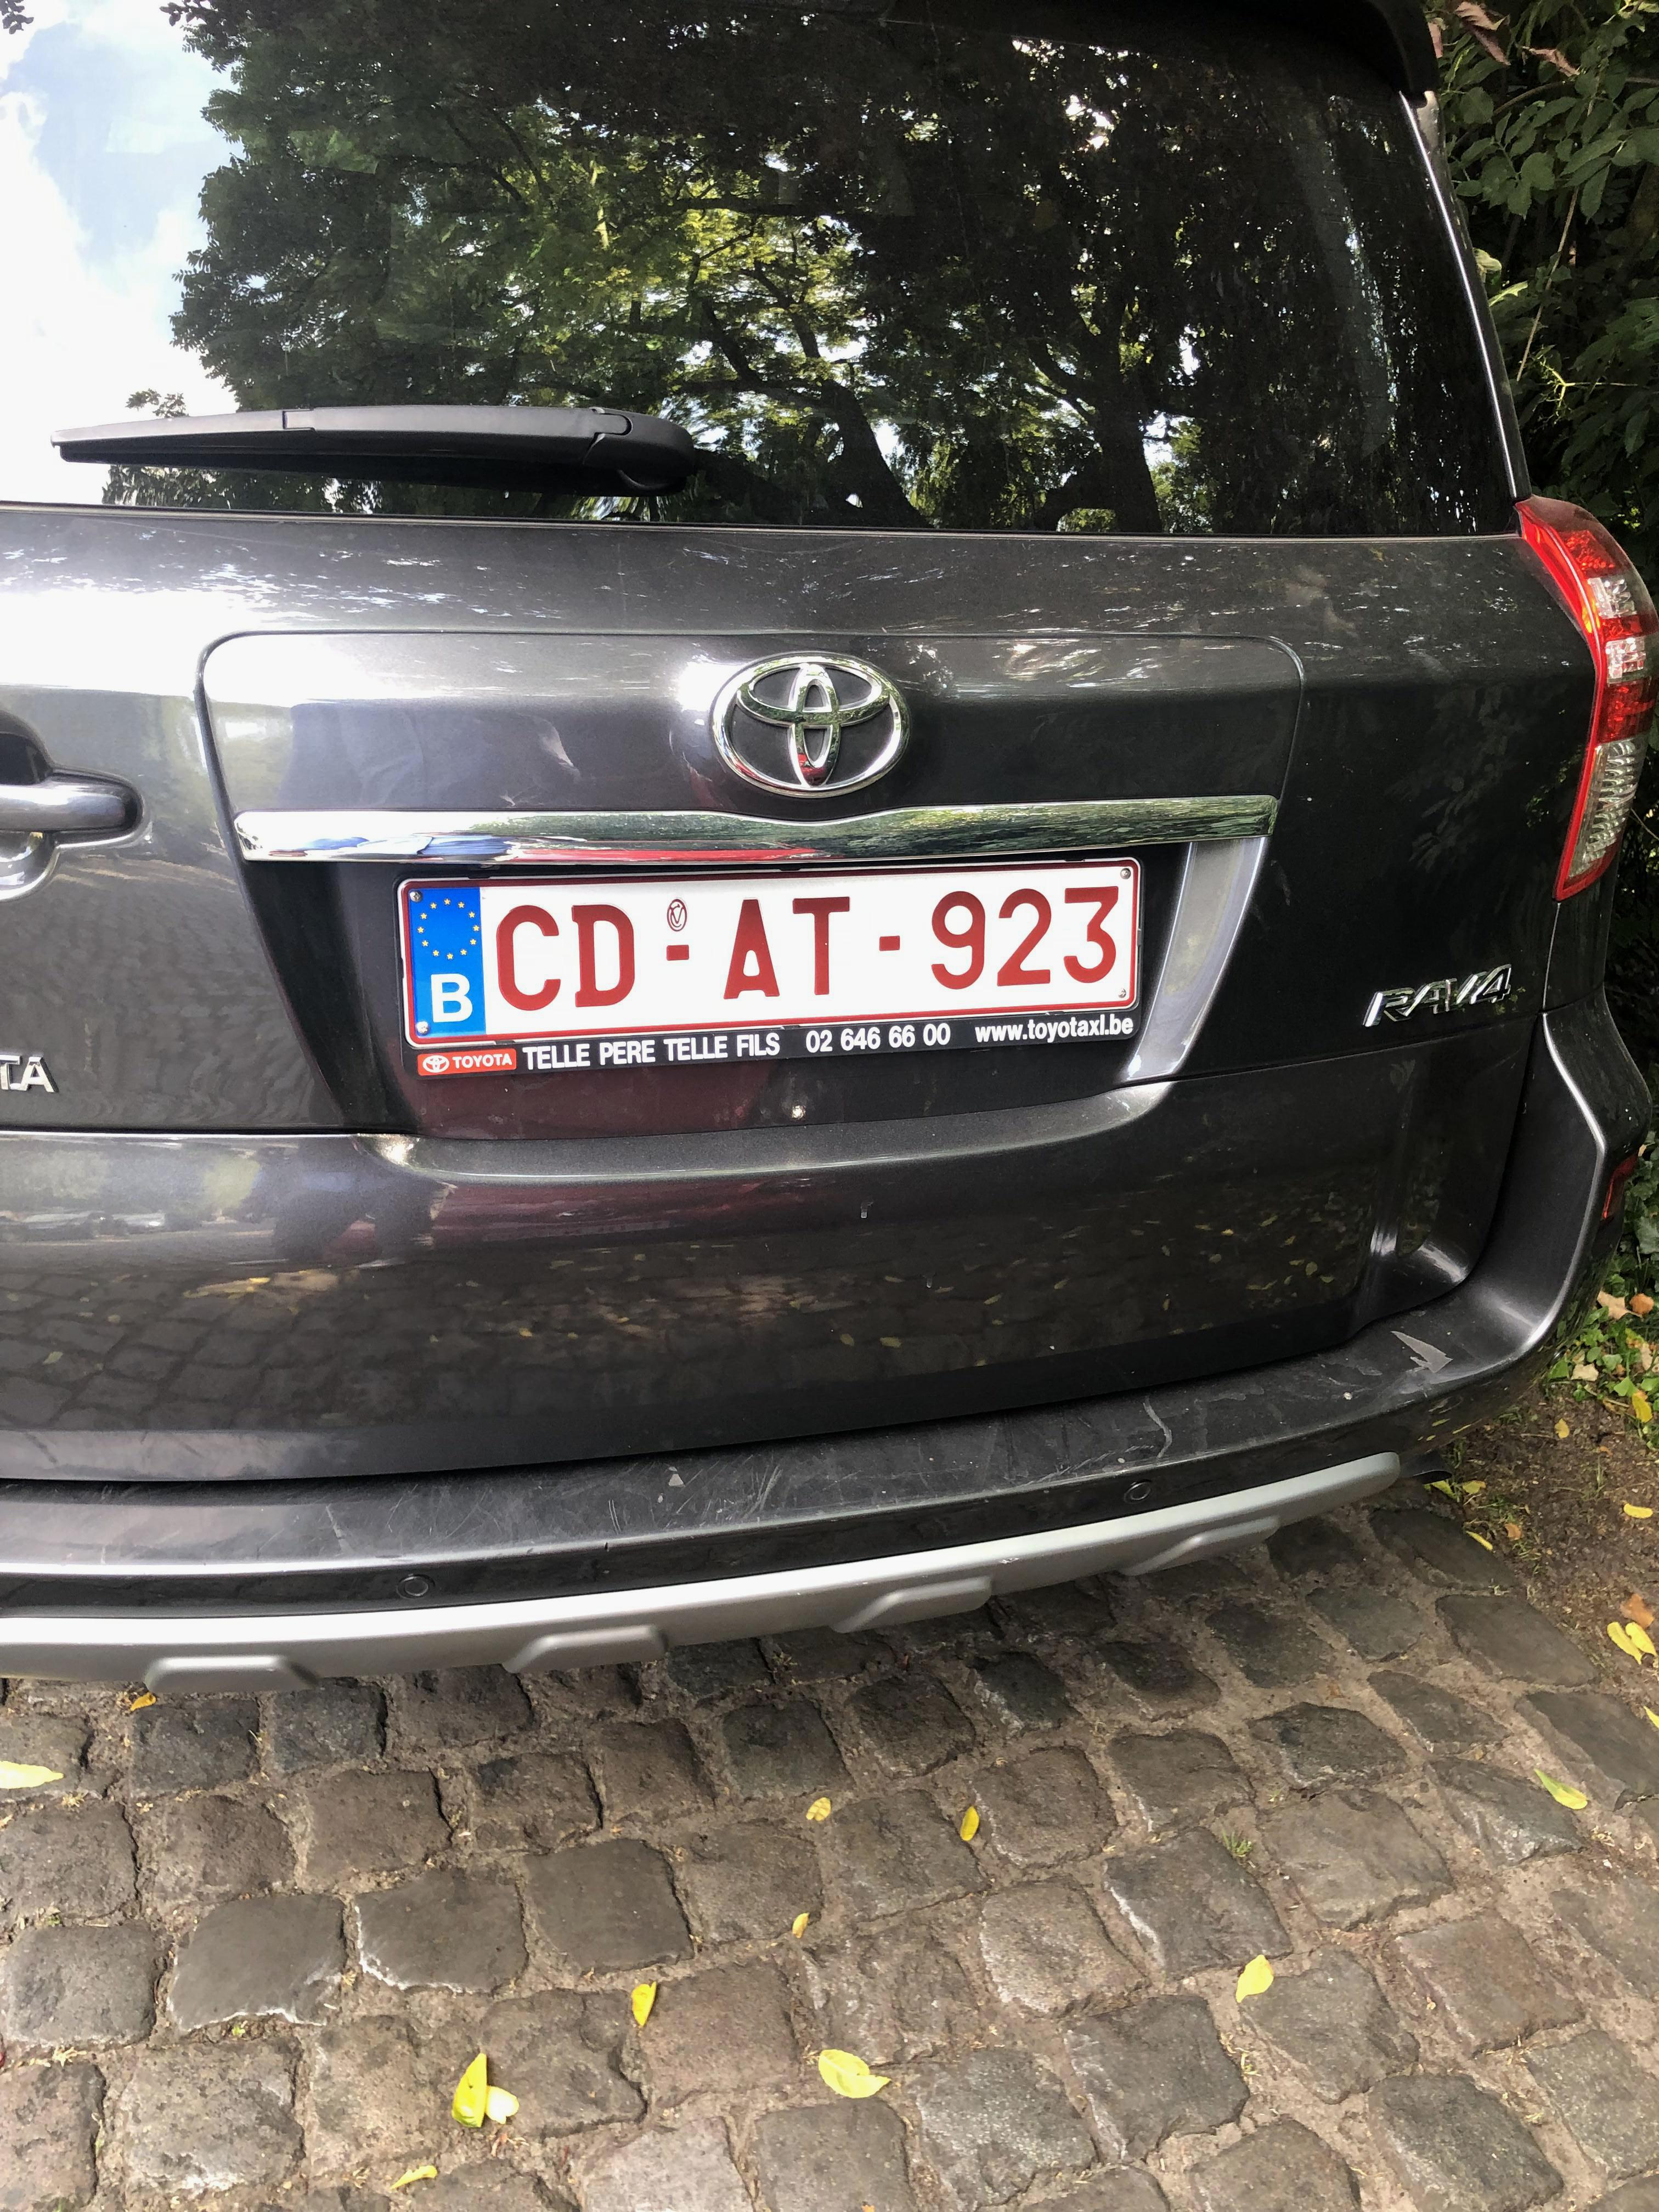plate: (373, 849, 1178, 1059)
